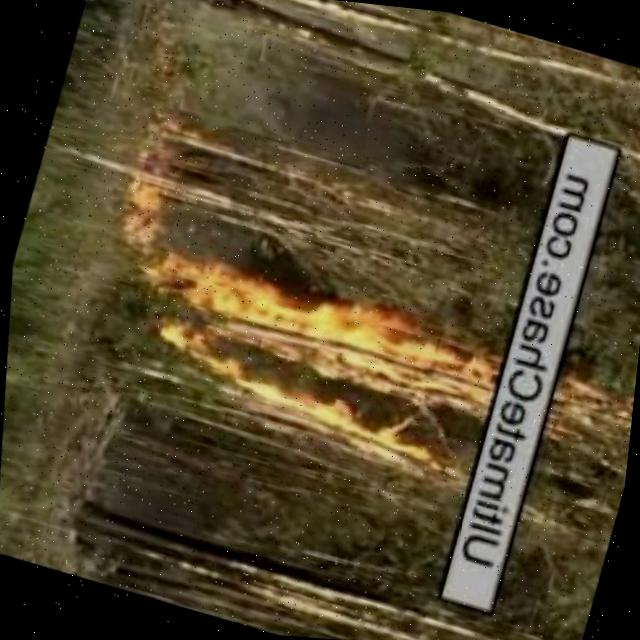fire: (109, 220, 519, 505), (78, 125, 183, 272), (526, 360, 637, 474)
